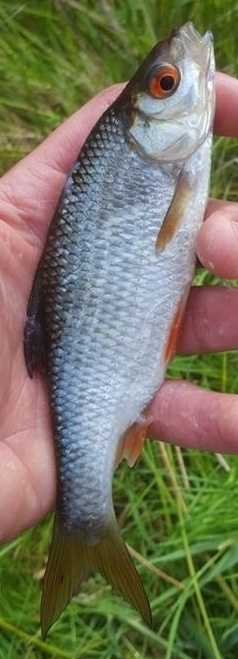Rutilus rutilus: (20, 20, 218, 639)
